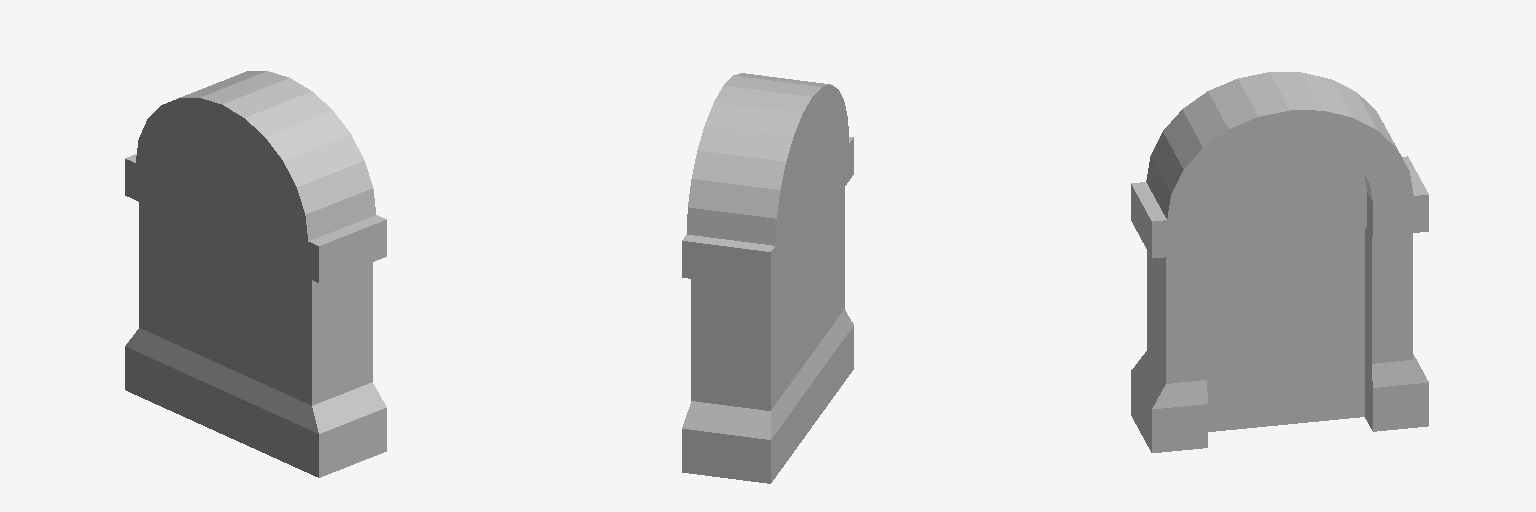
The model's file is Gravestone_Round_1 1.obj.
3 renders of one model, left to right at view 1: azimuth 30°, elevation 25°; view 2: azimuth 150°, elevation 25°; view 3: azimuth 270°, elevation 25°, orthographic.
Parts seen in each view (by area): view 1: Gravestone_Round_1; view 2: Gravestone_Round_1; view 3: Gravestone_Round_1.
Part boxes in pixels (x1,y1,x2,y2): Gravestone_Round_1: (125,71,386,477); Gravestone_Round_1: (682,73,853,483); Gravestone_Round_1: (1131,72,1428,452).
Bounding box in the file's own units: 0.2965 × 0.6978 × 0.572.